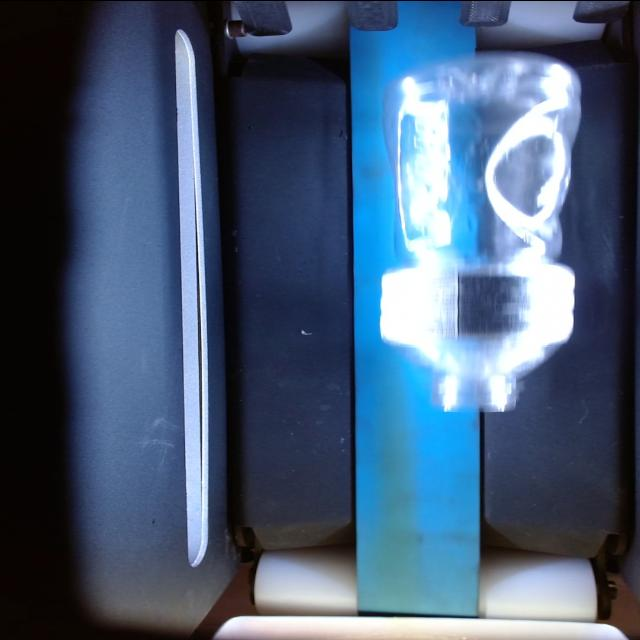bottom: (379, 47, 583, 258)
label: (375, 262, 576, 348)
neck: (401, 345, 555, 410)
